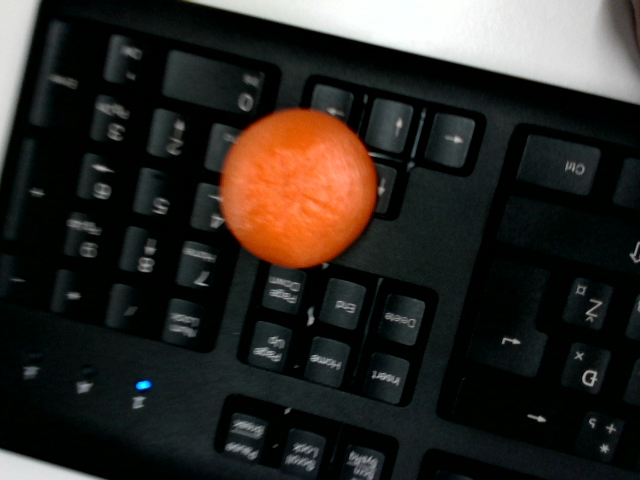orange: (185, 76, 408, 299)
